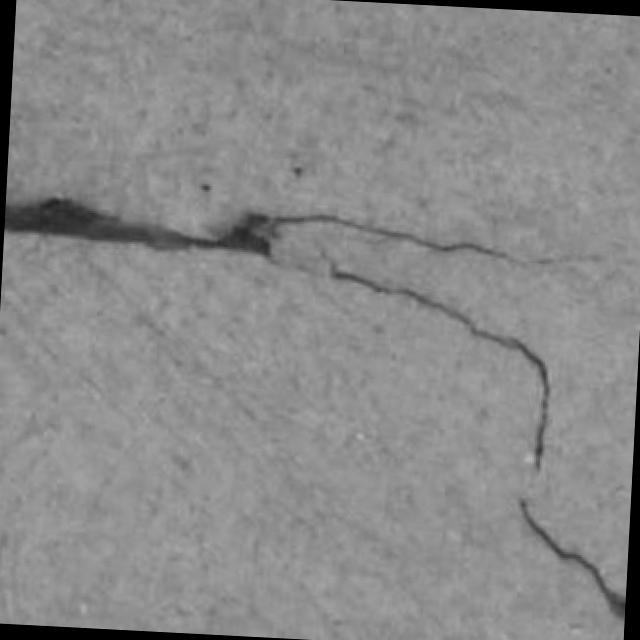crack: (329, 264, 550, 470), (4, 199, 563, 266), (4, 199, 523, 264), (4, 199, 270, 255), (518, 499, 625, 620)
